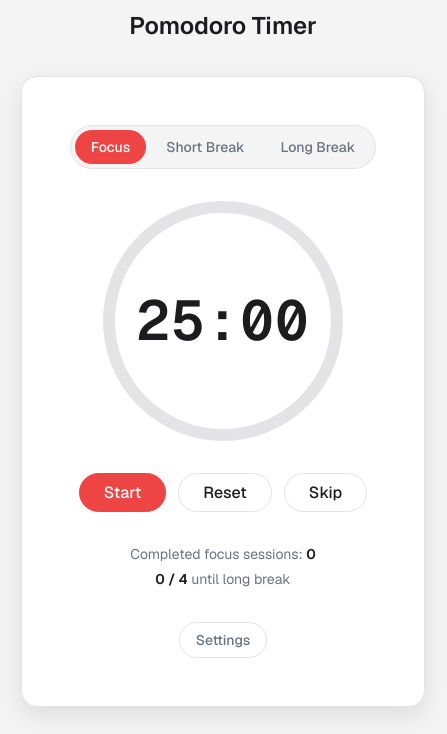
PomodoroApp › Pause halts the countdown and Resume continues it
The width and height of the screenshot is (447, 734).
Click the button "Start" at point(123, 492), box x1=79 y1=472 x2=166 y2=512
Wait 5000 ms
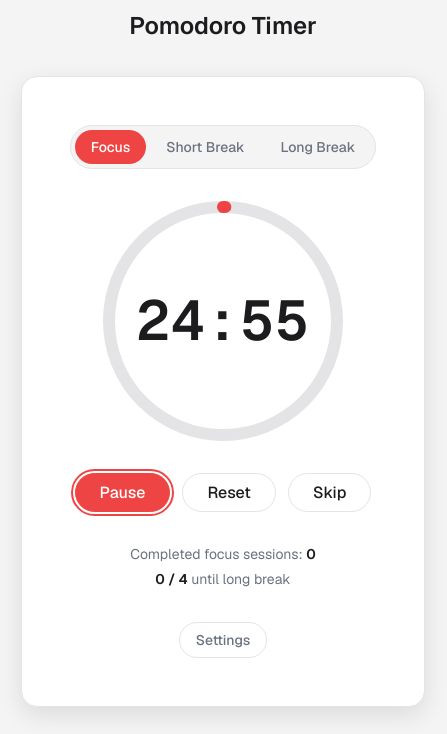
Now the text "24:55" is shown, box x1=136 y1=292 x2=310 y2=348
Click the button "Pause" at point(122, 492), box x1=74 y1=472 x2=170 y2=512
Wait 10000 ms
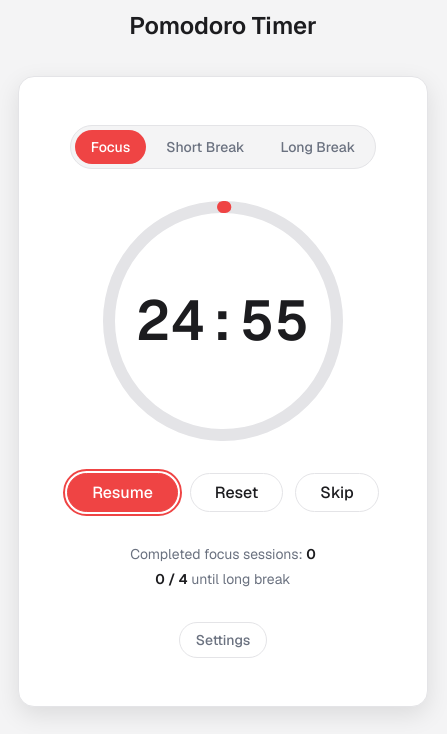
Now the text "24:55" is shown, box x1=136 y1=292 x2=310 y2=348
Click the button "Resume" at point(123, 492), box x1=67 y1=472 x2=178 y2=512
Wait 5000 ms
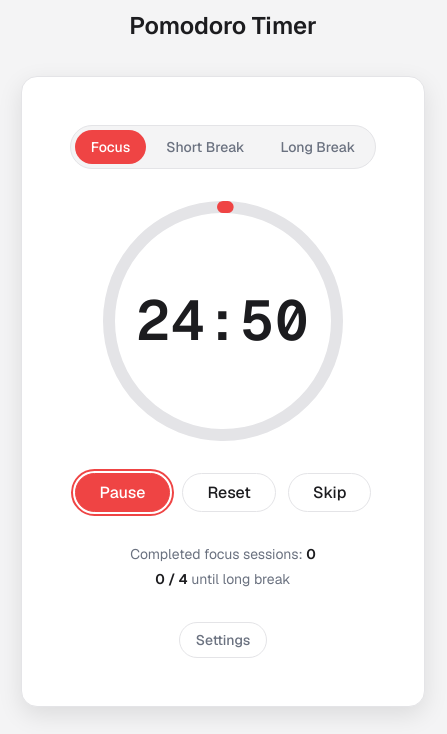
Now the text "24:50" is shown, box x1=136 y1=292 x2=310 y2=348
